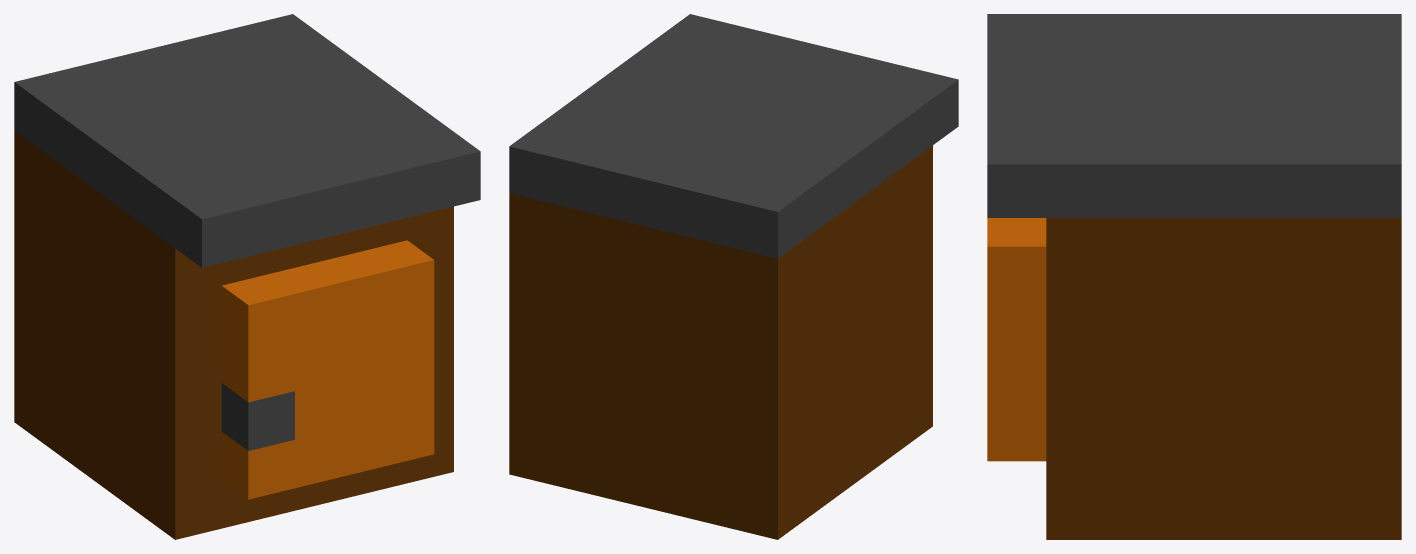
File: kitchen_counter.obj
3 renders of one model, left to right at view 1: azimuth 30°, elevation 25°; view 2: azimuth 150°, elevation 25°; view 3: azimuth 270°, elevation 25°, orthographic. The views are drawn at different scales.
Parts seen in each view (by area): view 1: kitchen_counter; view 2: kitchen_counter; view 3: kitchen_counter.
Part boxes in pixels (<box>): kitchen_counter: <box>14,14,480,539</box>; kitchen_counter: <box>509,14,958,539</box>; kitchen_counter: <box>987,14,1401,539</box>.
Size of the model in its own units: 6 by 7 by 7.
Materials: 1 (1 with a texture image).
